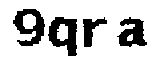9: (12, 5, 45, 50)
a: (116, 17, 149, 51)
q: (48, 14, 81, 60)
r: (80, 14, 109, 51)
